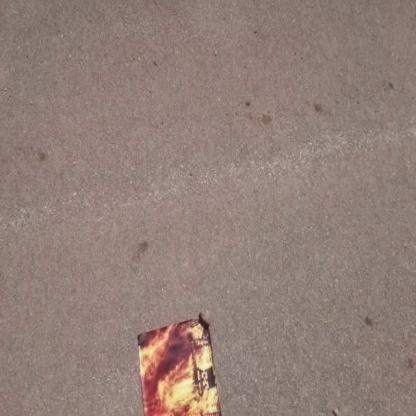fire-poster: (135, 312, 224, 415)
